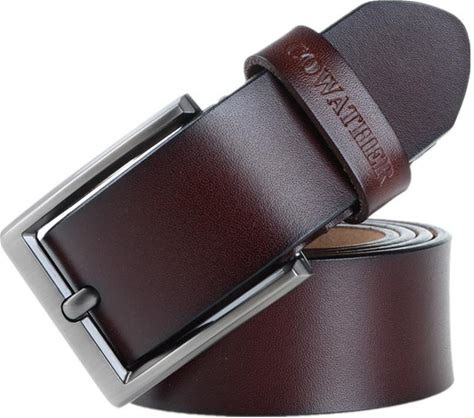cuero: (42, 1, 471, 418)
